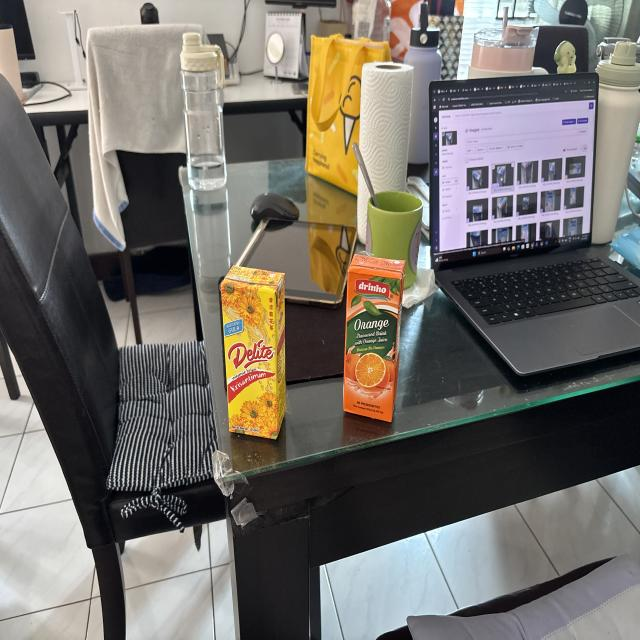drink_carton: (216, 258, 295, 446), (340, 247, 406, 433)
